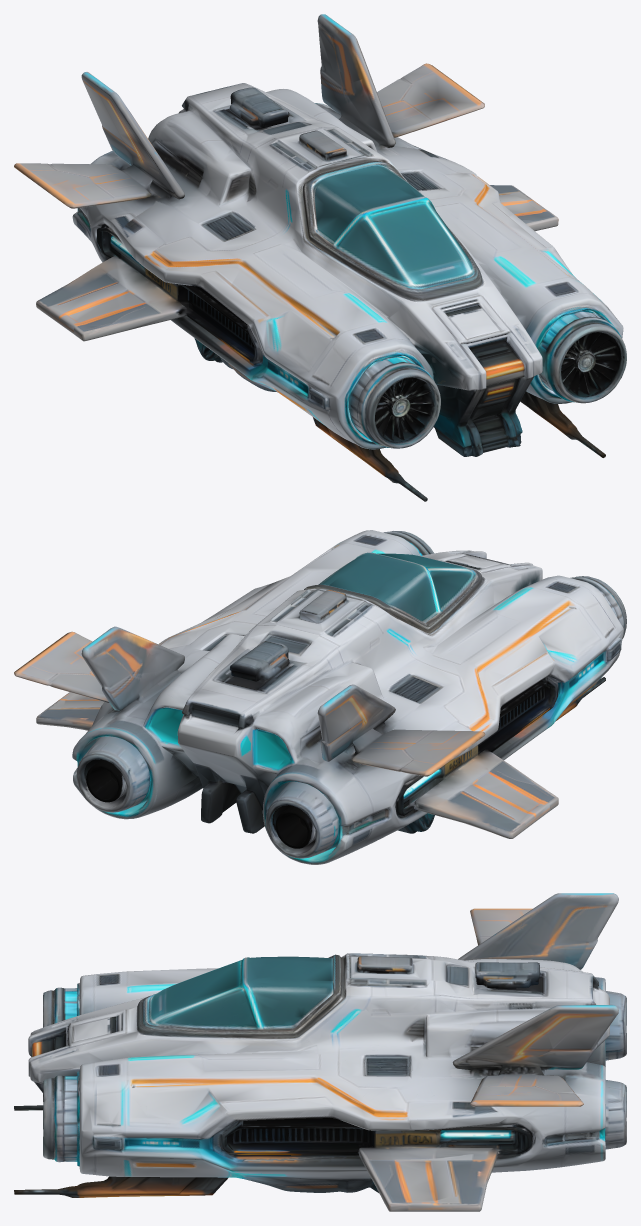
File: ship-enemy-v1.glb
3 renders of one model, top to bottom at view 1: azimuth 30°, elevation 25°; view 2: azimuth 150°, elevation 25°; view 3: azimuth 270°, elevation 25°, orthographic. The views are drawn at different scales.
Parts seen in each view (by area): view 1: node_0; view 2: node_0; view 3: node_0.
Boxes of the visible parts, bbox=[...] form: node_0: bbox=[14, 14, 626, 501]; node_0: bbox=[14, 530, 626, 864]; node_0: bbox=[14, 893, 626, 1211].
Size of the model in its own units: 0.9059 by 0.387 by 1.04.
Materials: 1 (1 with a texture image).
